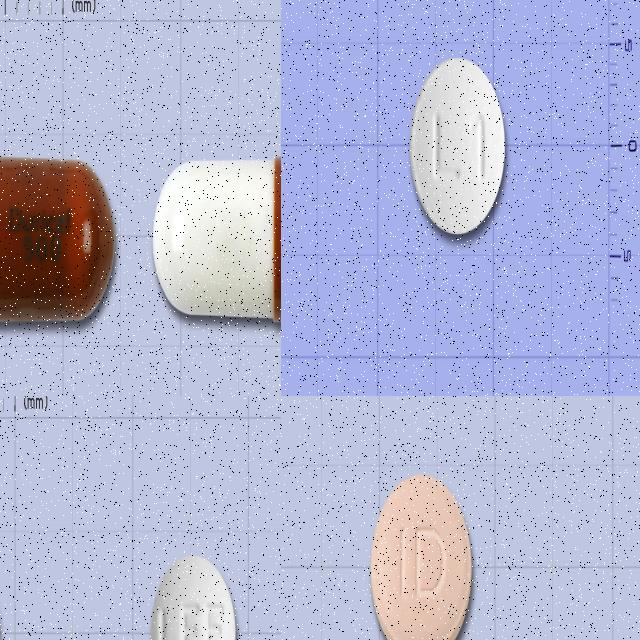Duricef Cap: (150, 155, 281, 322), (0, 155, 115, 324)
Flomox: (370, 473, 473, 640)
Kimara - 20mg: (148, 552, 237, 640)
Refloxin Tab: (409, 55, 506, 236)
